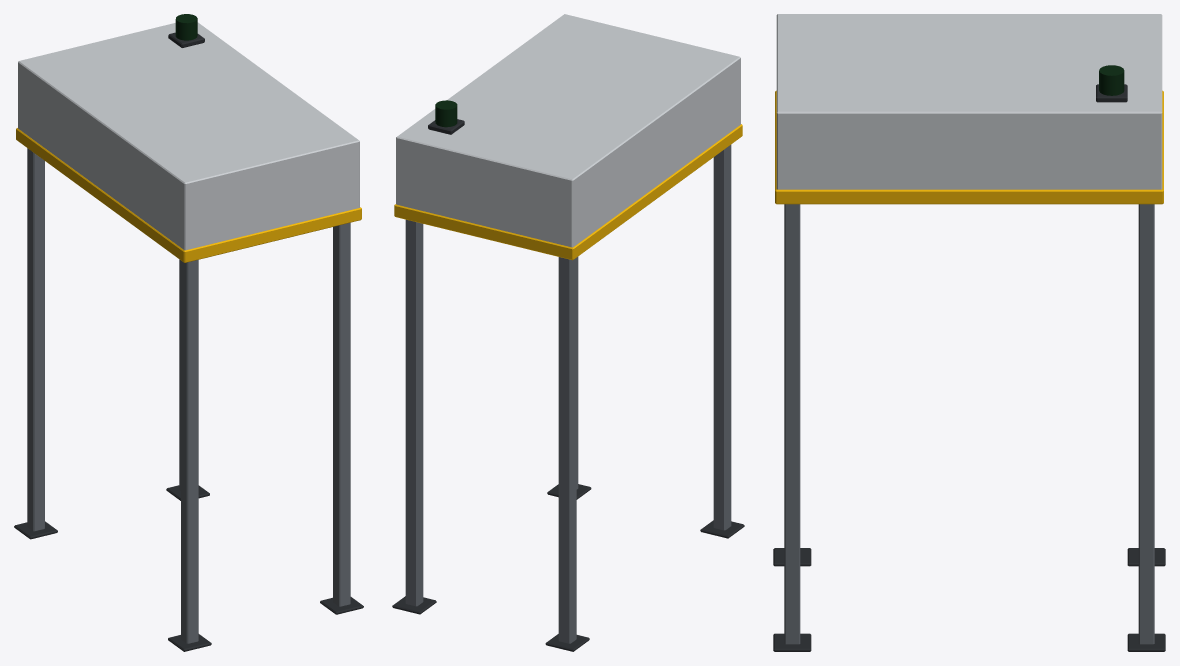
File: emitter_gantry.glb
3 renders of one model, left to right at view 1: azimuth 30°, elevation 25°; view 2: azimuth 150°, elevation 25°; view 3: azimuth 270°, elevation 25°, orthographic. The views are drawn at different scales.
Visible parts, largest first — view 1: Emitter_Static, EmitterLamp; view 2: Emitter_Static, EmitterLamp; view 3: Emitter_Static, EmitterLamp.
Boxes of the visible parts, x1,y1,x2,y2 form: Emitter_Static: [14, 22, 363, 651]; EmitterLamp: [175, 14, 197, 40]; Emitter_Static: [392, 14, 744, 651]; EmitterLamp: [435, 100, 457, 127]; Emitter_Static: [773, 14, 1165, 651]; EmitterLamp: [1099, 65, 1124, 95].
Bounding box in the file's own units: 0.76 × 1.97 × 1.24.
